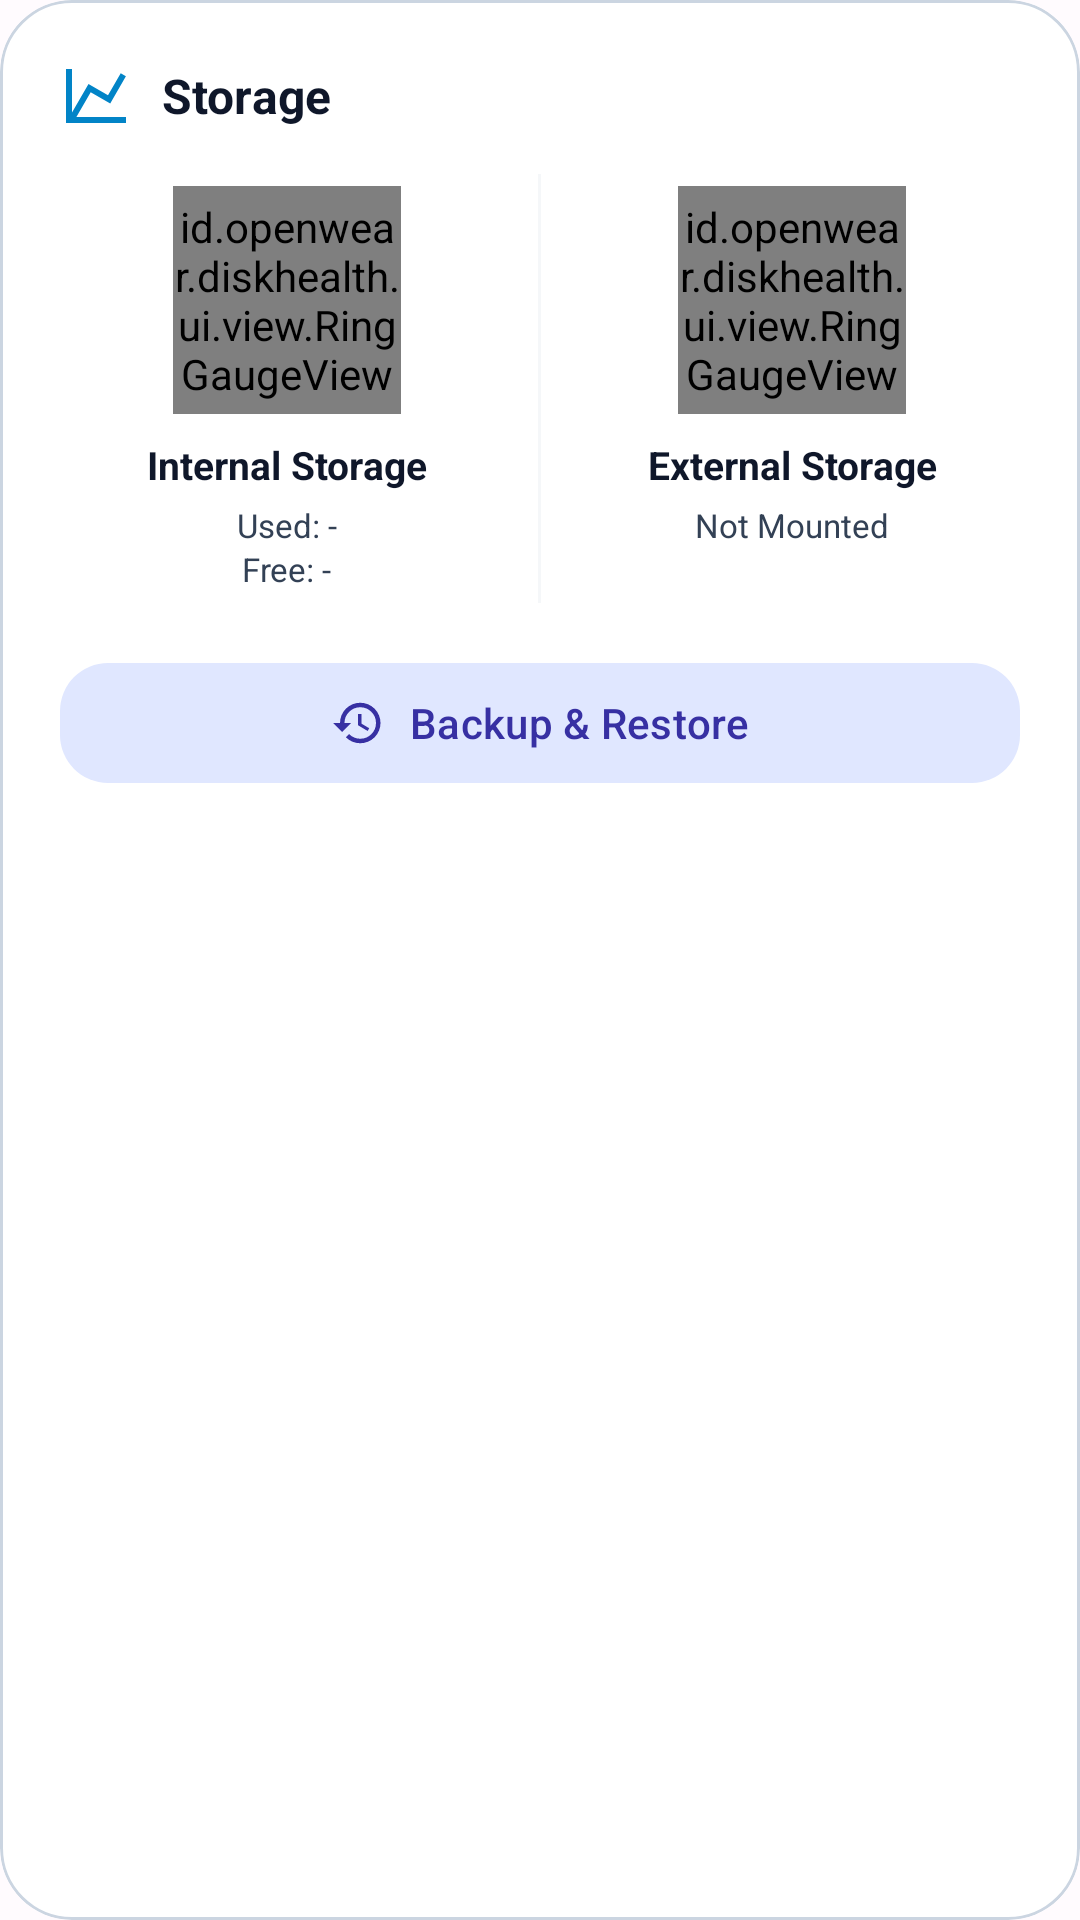

Icon bounding boxes for this 1080*1920 phone screenshot, format rect(x1, y1, x2, y2):
chart: rect(66, 69, 126, 123)
